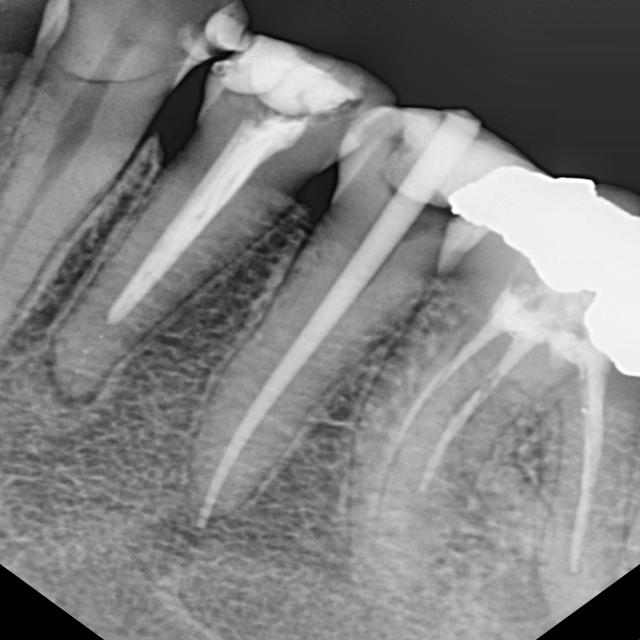RCT: (105, 189, 459, 555), (337, 293, 629, 592), (33, 97, 334, 386)
Restoration: (420, 134, 640, 398), (203, 8, 396, 149)
